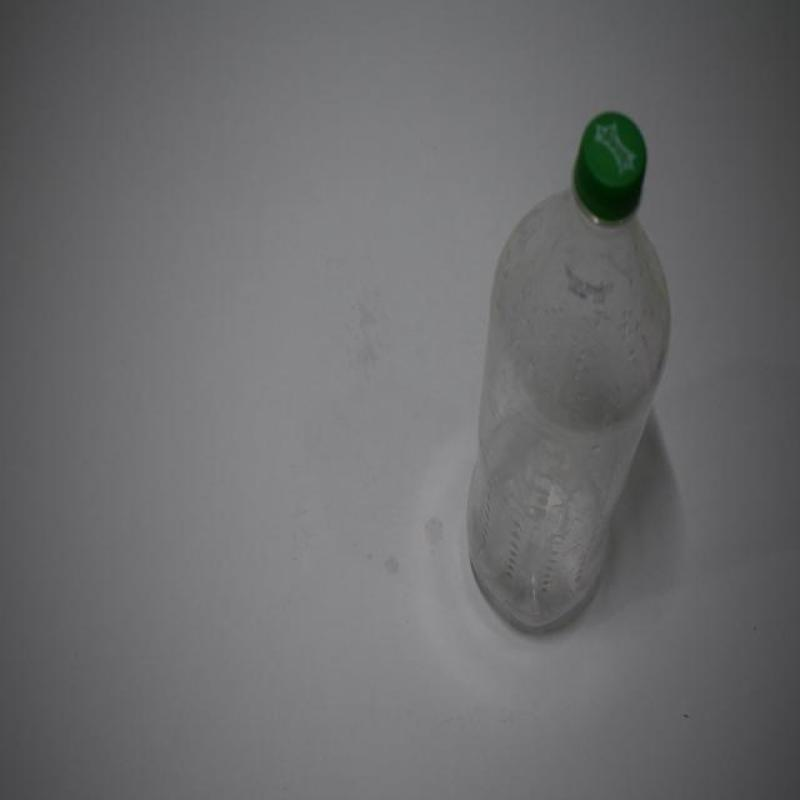botella: (464, 104, 678, 638)
